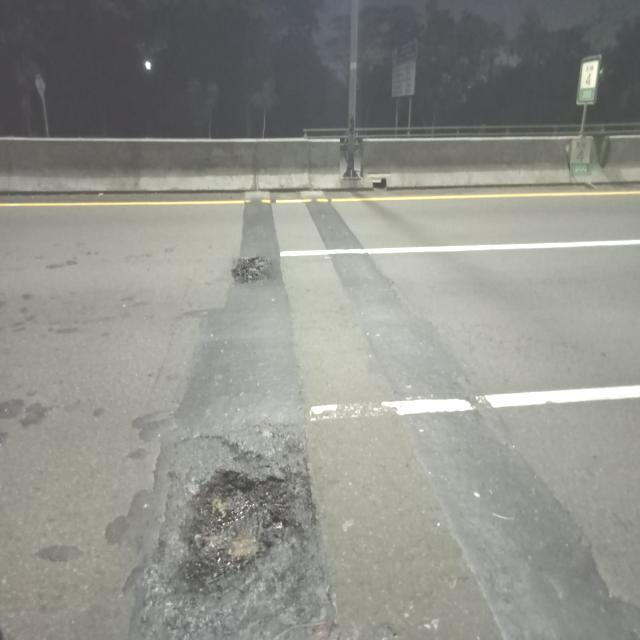Buraco: (171, 466, 320, 599), (229, 254, 275, 286)
